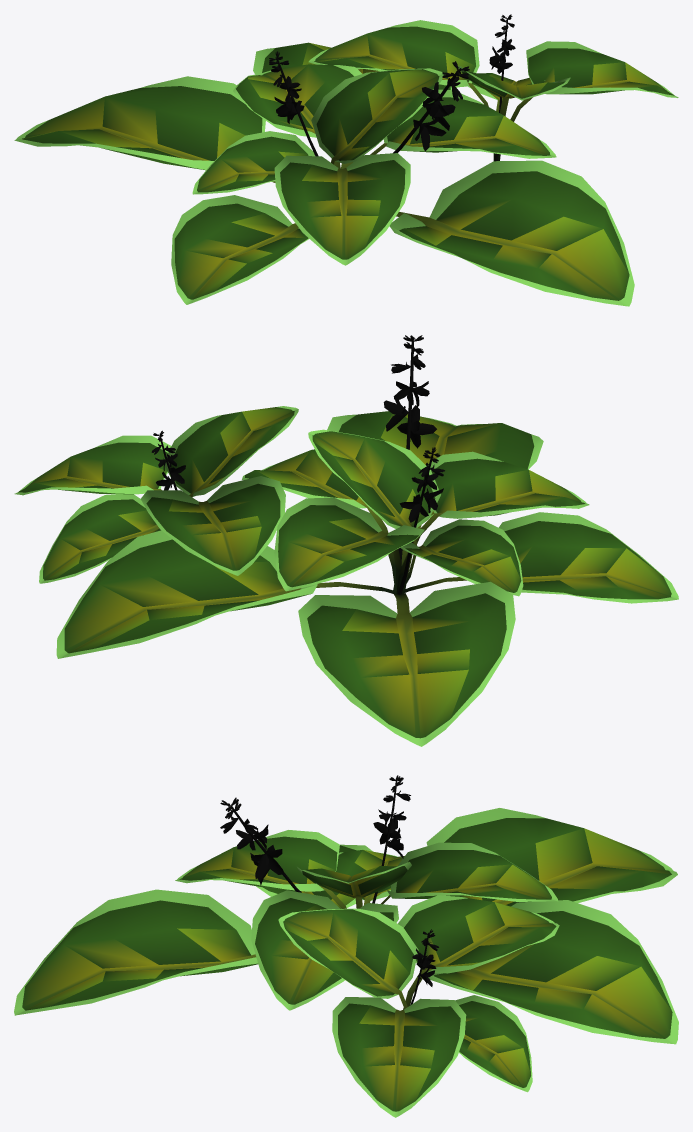
The model's file is Hosta_YF_04.fbx.
The picture shows the model from 3 angles, top to bottom: view 1: azimuth 30°, elevation 25°; view 2: azimuth 150°, elevation 25°; view 3: azimuth 270°, elevation 25°; orthographic projection. The views are drawn at different scales.
Visible parts, largest first — view 1: Hosta_Y_04; view 2: Hosta_Y_04; view 3: Hosta_Y_04.
Part boxes in pixels (bbox=[...]): Hosta_Y_04: bbox=[14, 14, 678, 306]; Hosta_Y_04: bbox=[14, 335, 678, 746]; Hosta_Y_04: bbox=[14, 775, 678, 1117].
Size of the model in its own units: 106 by 34.26 by 106.
